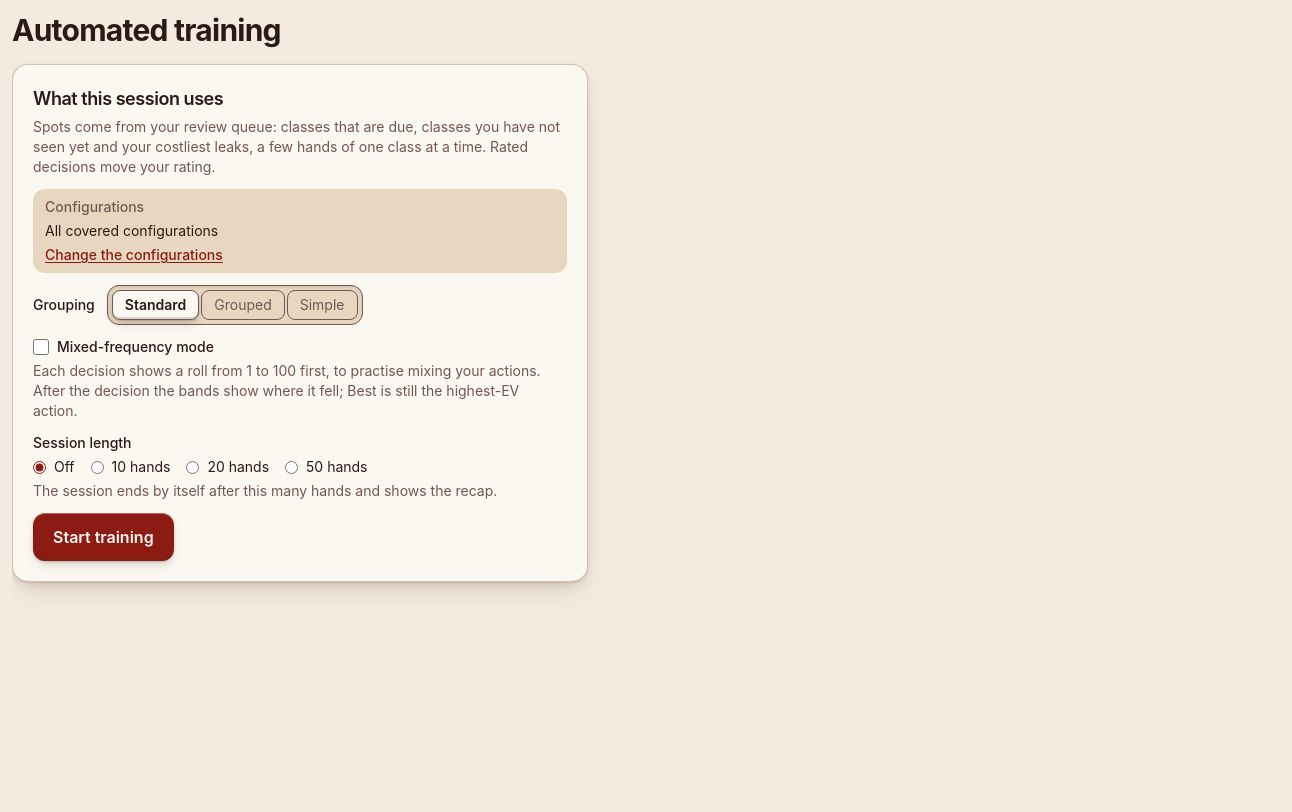
R4.10 automated start › R4.10 a 401 on start signs out: the me query becomes null
The image size is (1292, 812).
Check: the heading "Automated training" is shown, box [12, 12, 281, 48]
Click the button "Start training": click(103, 537) [33, 513, 174, 561]
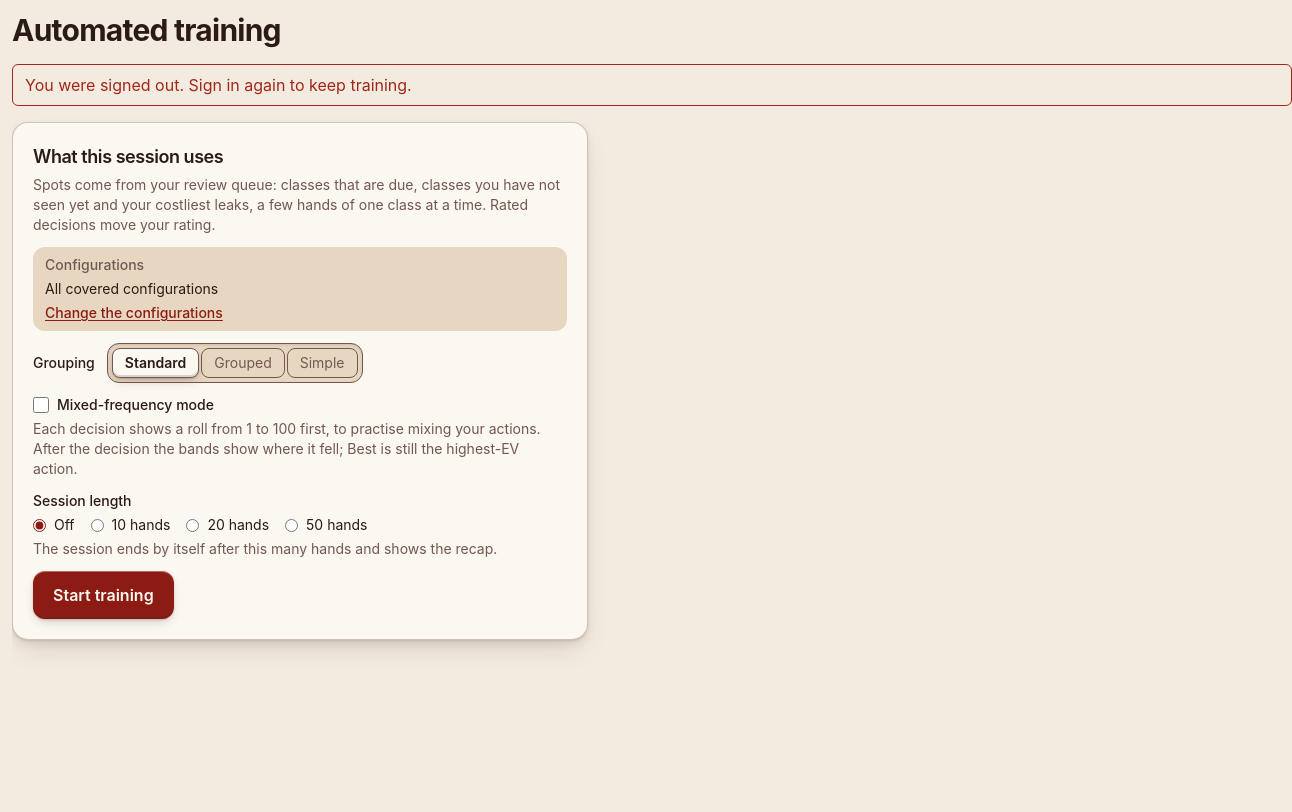
Check: the message "You were signed out. Sign in again to keep training." is shown, box [12, 64, 1291, 106]
